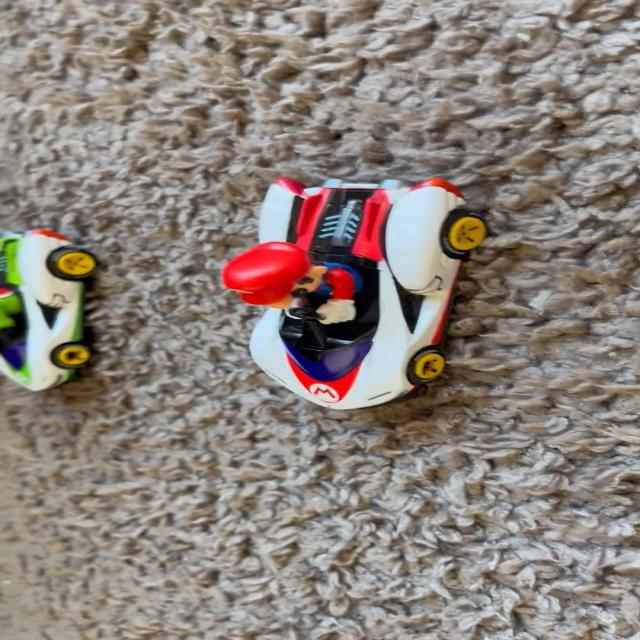mario: (225, 200, 507, 430)
yoshi: (0, 209, 112, 415)
